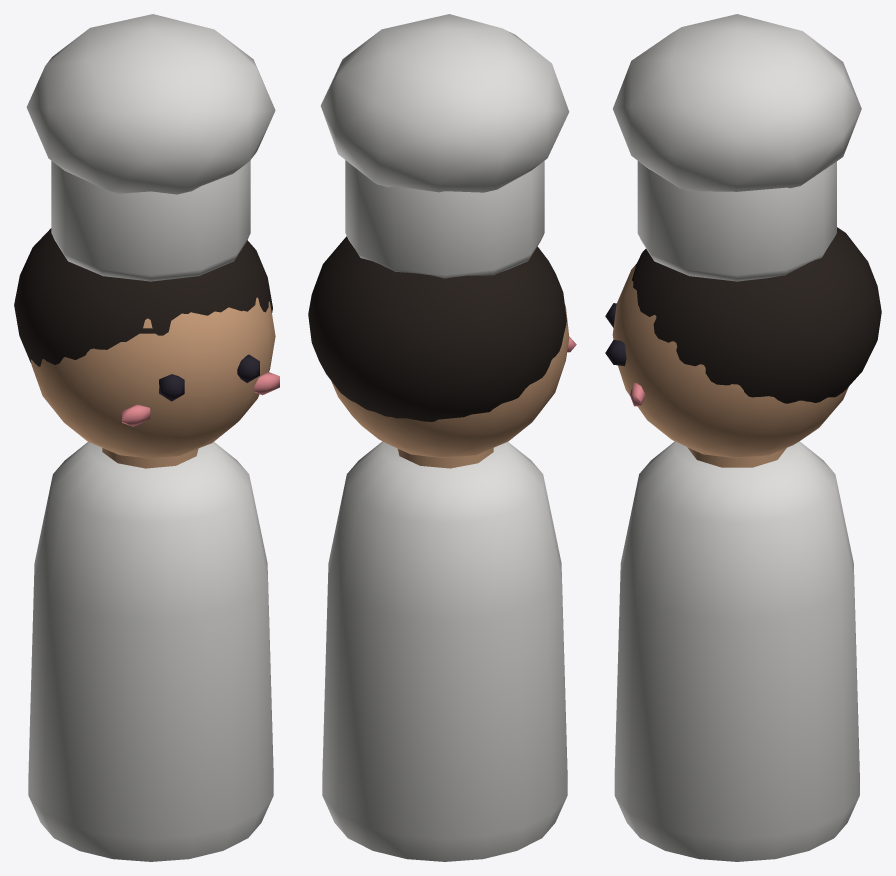
File: person_baker.fbx
3 renders of one model, left to right at view 1: azimuth 30°, elevation 25°; view 2: azimuth 150°, elevation 25°; view 3: azimuth 270°, elevation 25°, orthographic.
Visible parts, largest first — view 1: Head, Body; view 2: Head, Body; view 3: Head, Body.
Part boxes in pixels (x1,y1,x2,y2): Head: (14,14,279,458); Body: (28,442,273,861); Head: (308,14,576,457); Body: (322,441,567,861); Head: (605,14,881,457); Body: (614,441,859,861).
Bounding box in the file's own units: 0.208 × 0.7 × 0.222.
